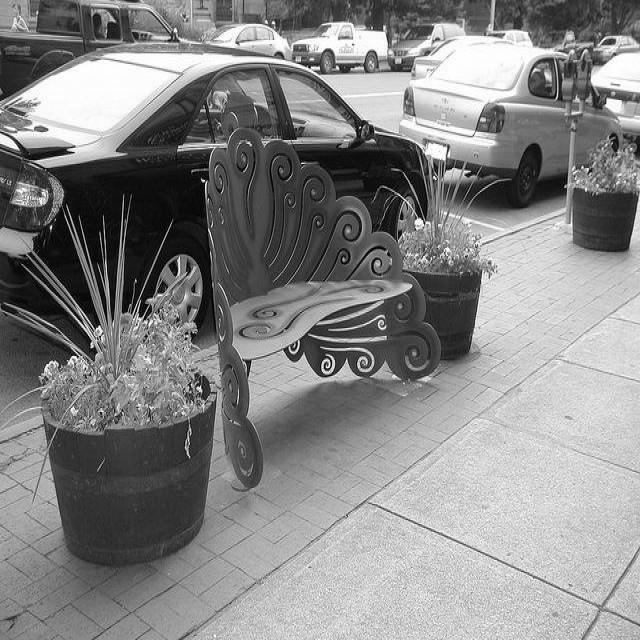vehicle: (2, 43, 436, 334), (401, 43, 624, 205), (0, 5, 207, 115), (409, 34, 515, 84), (291, 22, 389, 76), (387, 19, 468, 71), (592, 52, 640, 138), (200, 23, 292, 65), (537, 30, 593, 63), (592, 33, 640, 63), (485, 29, 533, 47)
